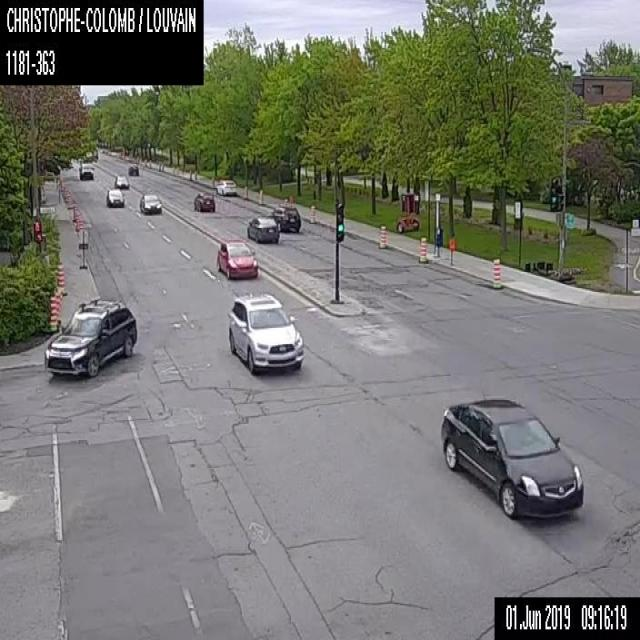construction: (396, 191, 418, 232), (78, 228, 88, 268), (56, 263, 67, 294), (50, 296, 59, 331), (492, 257, 501, 288), (52, 293, 59, 326), (378, 225, 386, 248), (419, 238, 426, 262), (449, 239, 454, 265), (57, 291, 61, 322), (75, 212, 80, 230), (72, 205, 77, 221), (258, 189, 263, 204), (311, 204, 315, 221), (67, 190, 71, 205), (243, 184, 247, 197), (289, 195, 293, 206), (188, 169, 192, 180), (194, 170, 197, 182), (79, 220, 83, 228)
vehicle: (439, 396, 584, 516), (43, 298, 136, 378), (227, 291, 302, 373), (216, 240, 256, 277), (246, 214, 279, 242), (269, 205, 300, 232), (193, 190, 215, 211), (139, 192, 161, 213), (106, 187, 124, 206), (217, 178, 236, 194), (78, 162, 94, 178), (114, 173, 129, 188), (128, 163, 138, 174)
